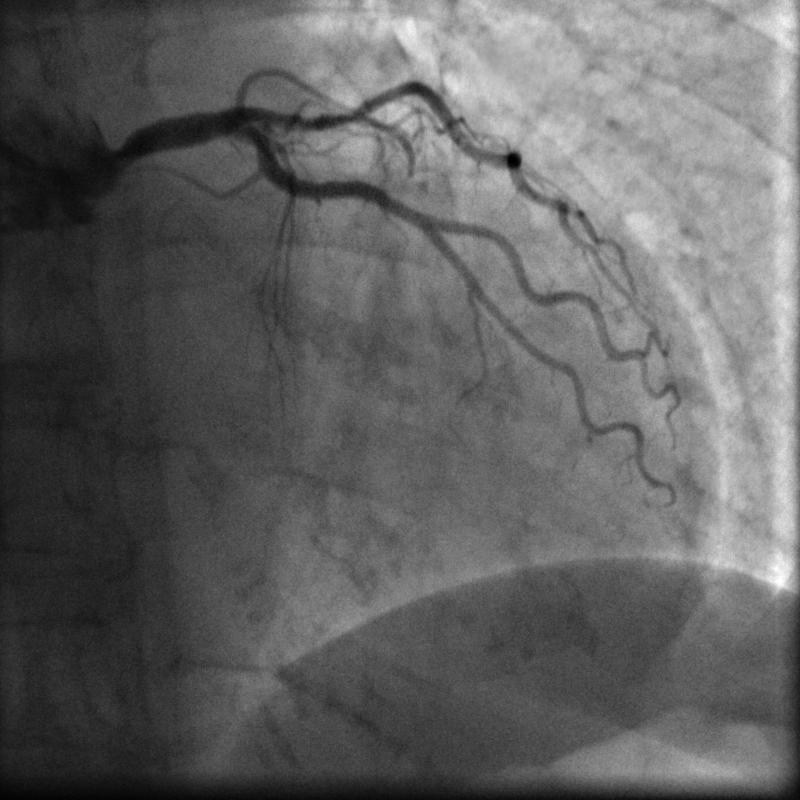Stenosis: (340, 103, 372, 121)
